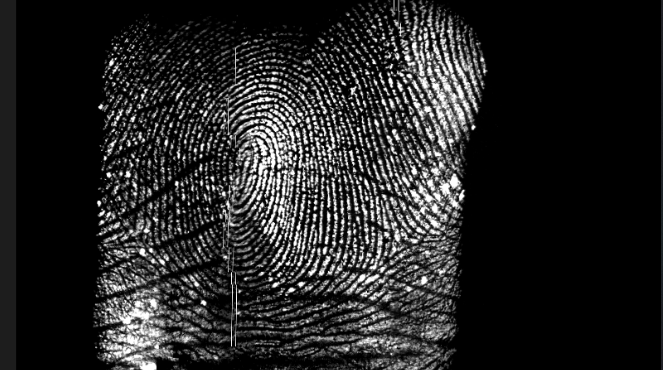deltas: (378, 217, 423, 269), (122, 220, 161, 264)
nucleo: (230, 139, 261, 196)
